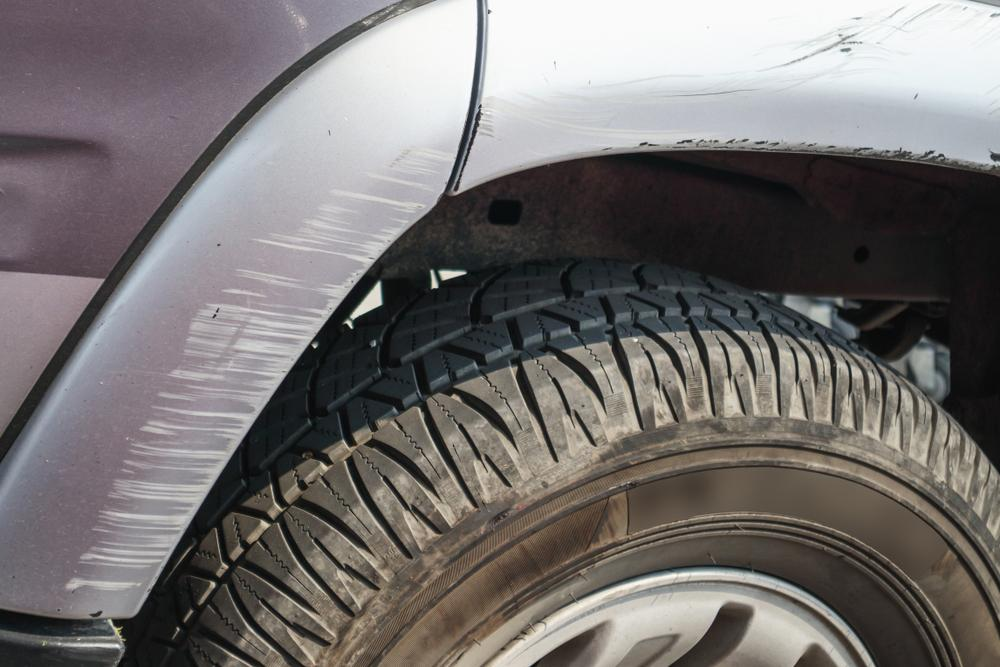scratch: (50, 137, 464, 600), (471, 0, 1000, 174)
